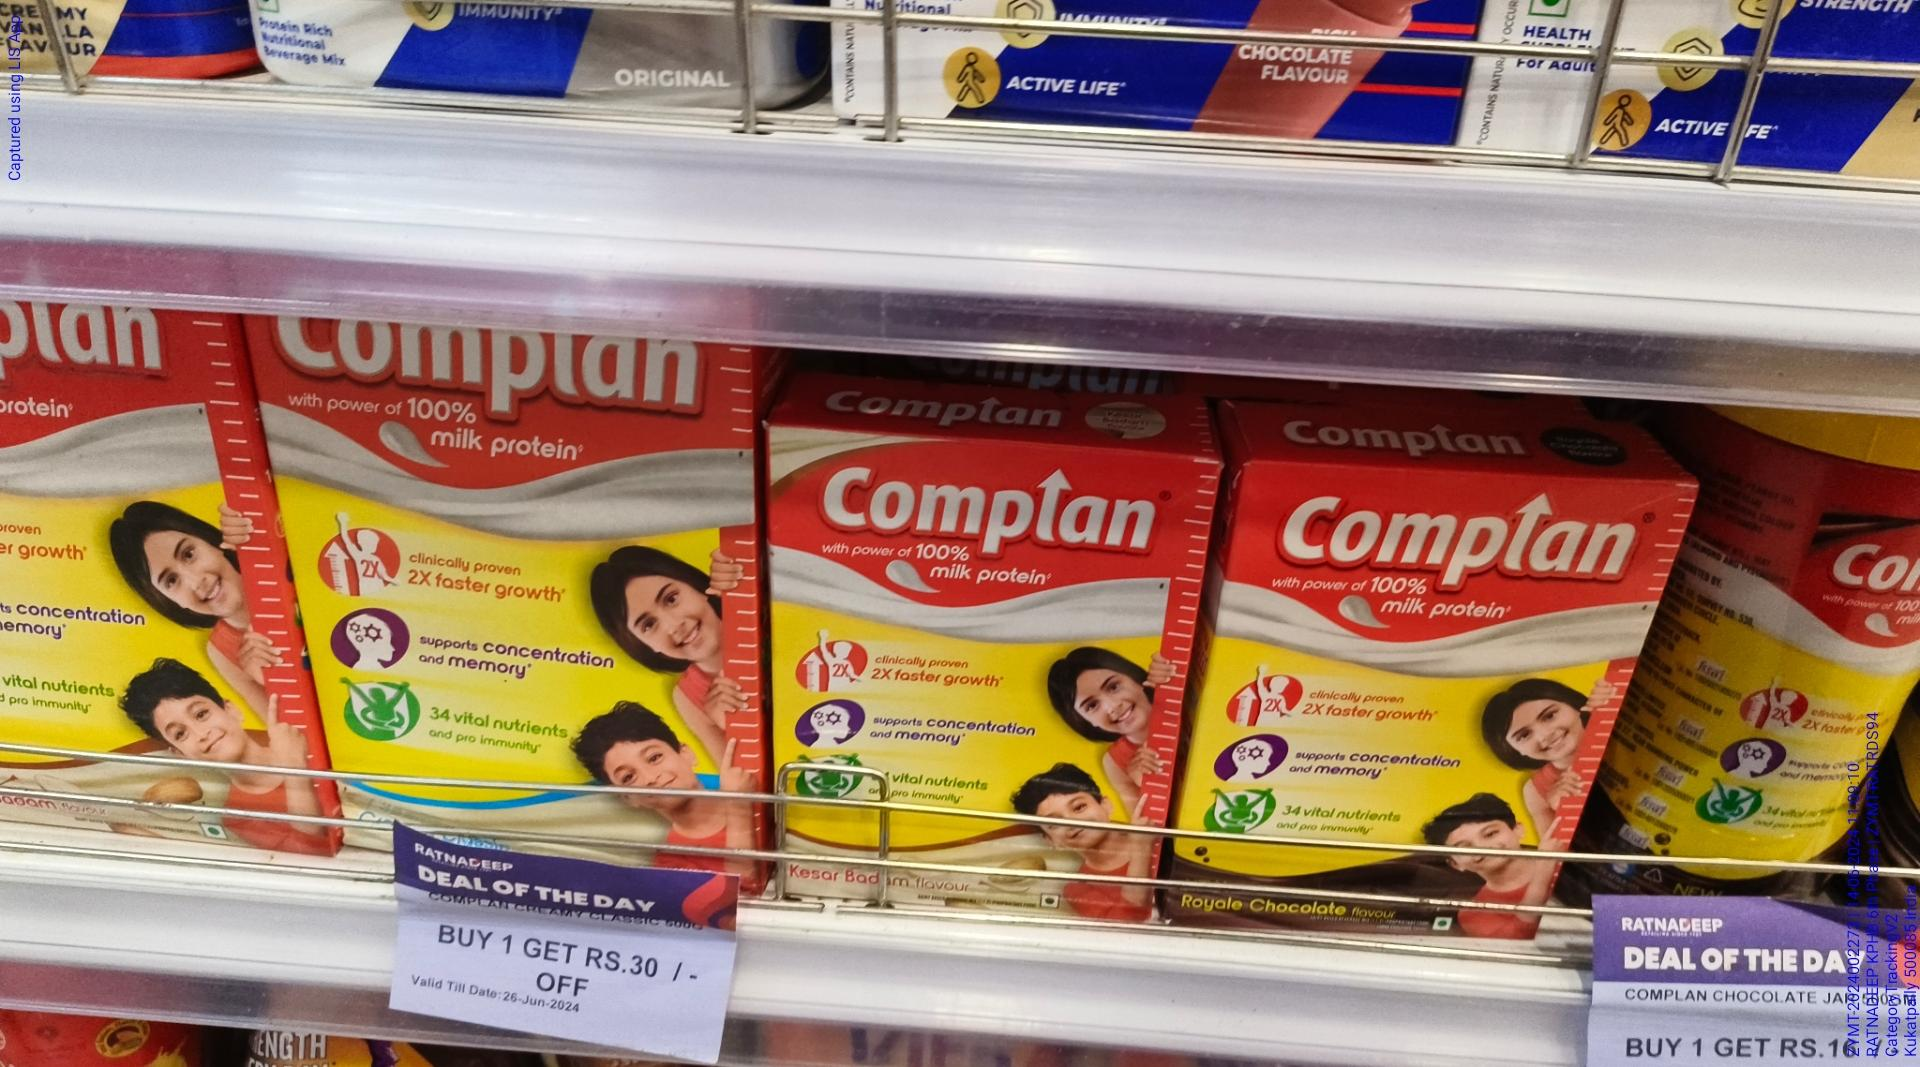COMPLAN_CHOCOLATE_500_GMS_PACK: (1216, 464, 1680, 929)
COMPLAN_CREAMY_CLASSIC_500_G_PACK: (314, 340, 743, 834)
COMPLAN_KESAR_BADAM_500_GMS_PACK: (770, 423, 1170, 917)
